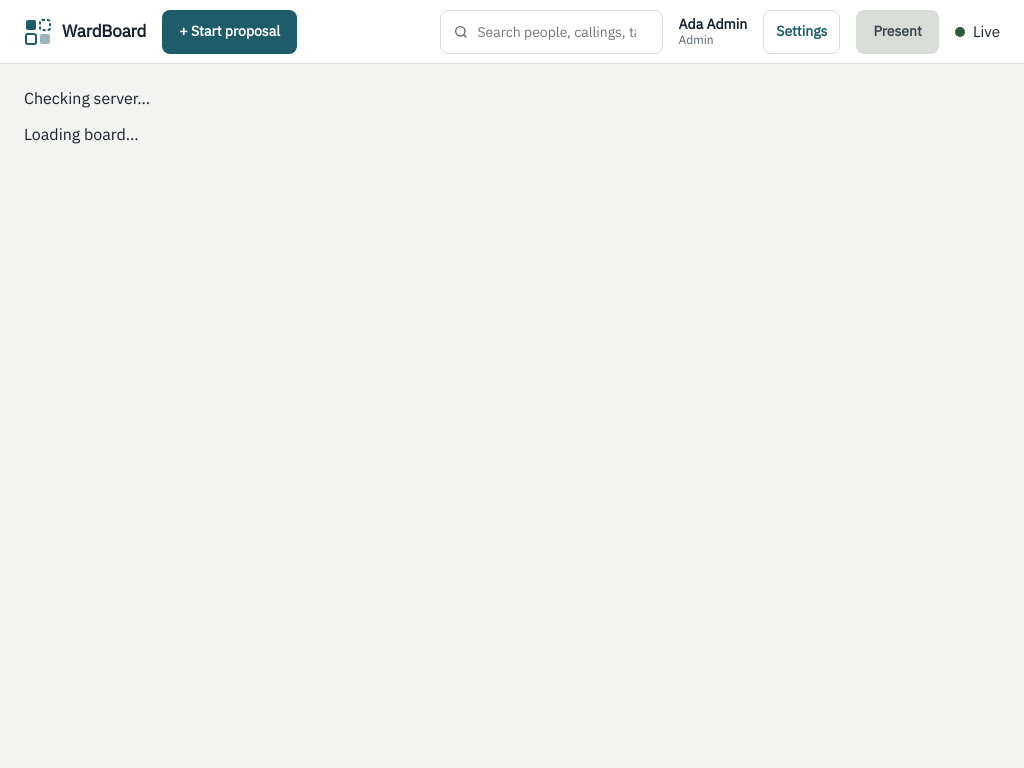
Scenario: Settings route › Settings link opens /settings without reloading; Back returns
Click the link "Settings" at {"x": 802, "y": 32}, box [763,10,840,54]
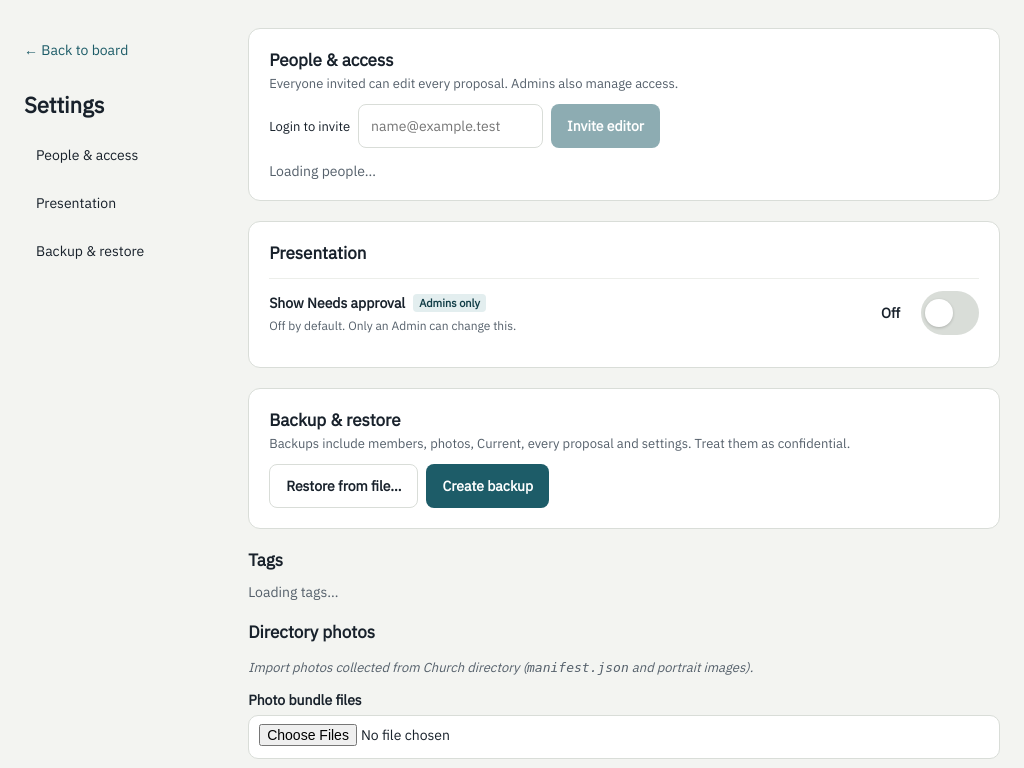
Result: the heading "Settings" is shown at [24,90,104,119]
Click the button "← Back to board" at {"x": 124, "y": 50}, box [24,28,224,72]
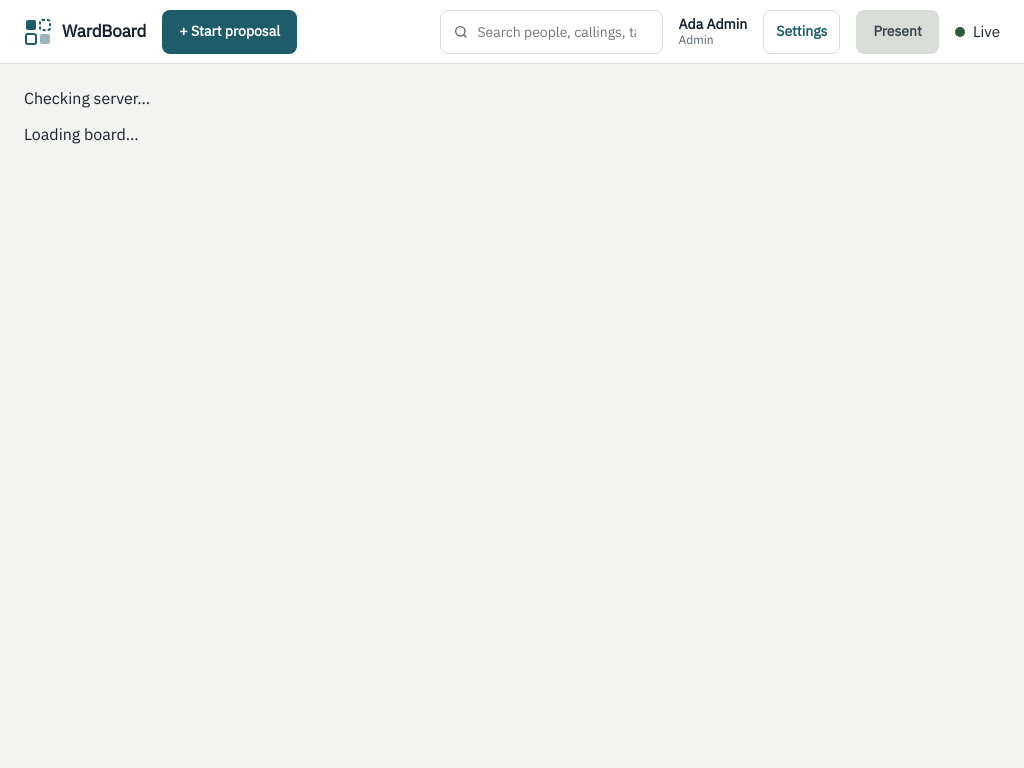
Result: the text "WardBoard" is shown at [62,22,146,41]
